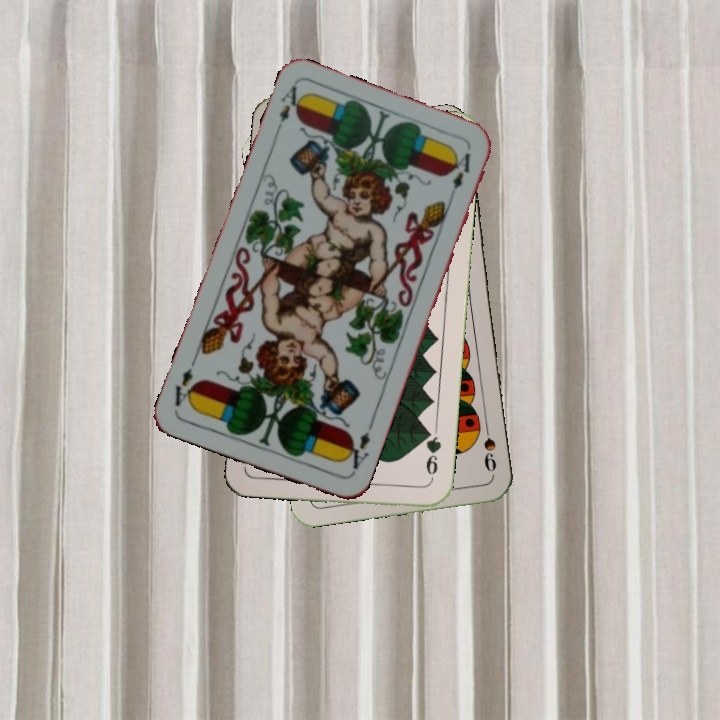EA: (271, 81, 307, 138), (340, 428, 373, 476)
G9: (421, 425, 444, 484)
S9: (479, 417, 499, 475)
